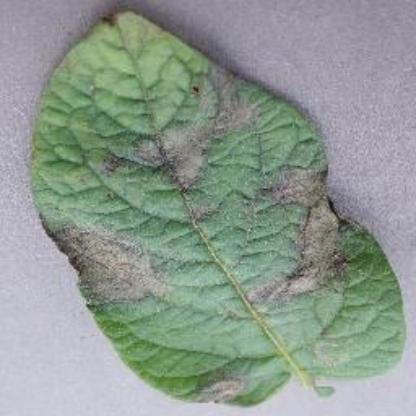Late-Blight: (31, 6, 405, 396)
